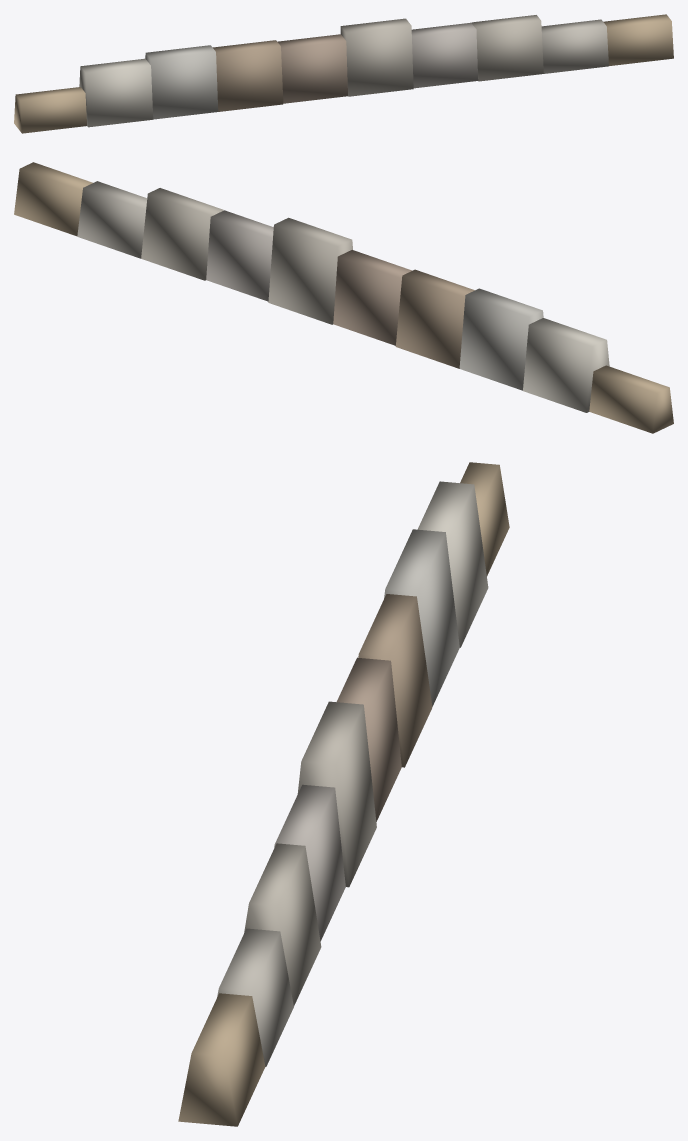
The model's file is farm_24_38_collision.glb.
3 views of the same model, one above another, from view 1: azimuth 30°, elevation 25°; view 2: azimuth 150°, elevation 25°; view 3: azimuth 270°, elevation 25° (orthographic). The views are drawn at different scales.
Visible parts, largest first — view 1: geometry_0; view 2: geometry_0; view 3: geometry_0.
Boxes of the visible parts, x1,y1,x2,y2 form: geometry_0: [14, 14, 673, 133]; geometry_0: [14, 162, 673, 433]; geometry_0: [178, 462, 509, 1126].
Size of the model in its own units: 15.74 by 1.78 by 3.85.
